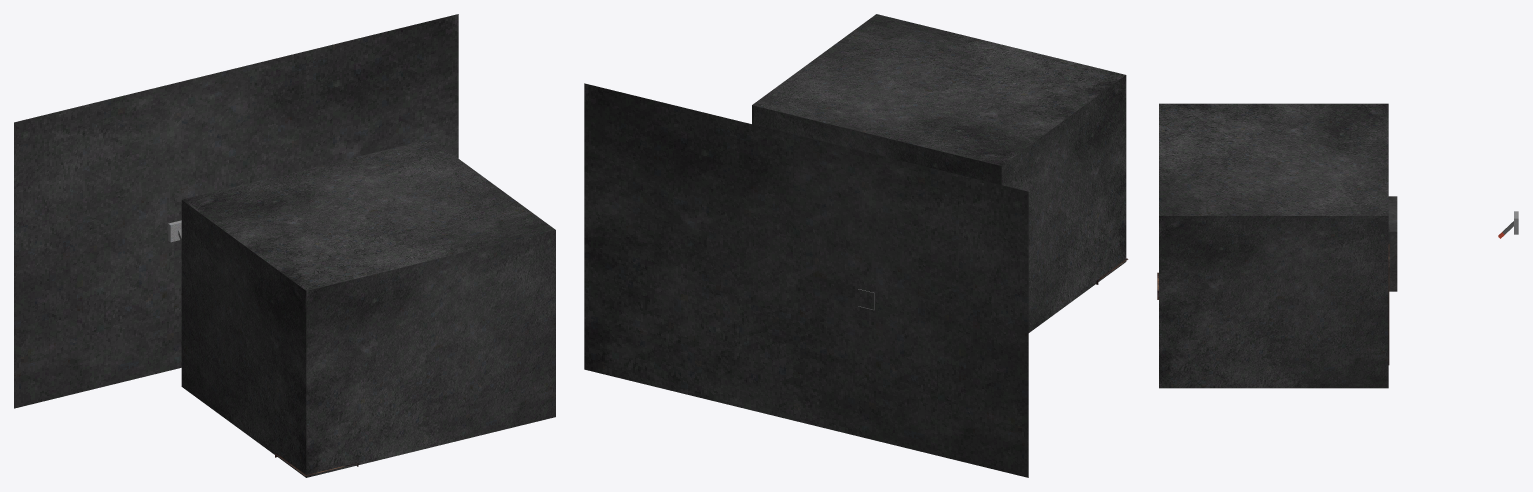
The model's file is EletstriskStolRomV2.glb.
The picture shows the model from 3 angles, left to right: view 1: azimuth 30°, elevation 25°; view 2: azimuth 150°, elevation 25°; view 3: azimuth 270°, elevation 25°; orthographic projection. The views are drawn at different scales.
Parts seen in each view (by area): view 1: ElStolRom, Extra Vegg; view 2: Extra Vegg, ElStolRom; view 3: ElStolRom.
Boxes of the visible parts, bbox=[...] form: ElStolRom: bbox=[181, 139, 555, 477]; Extra Vegg: bbox=[14, 14, 458, 408]; Extra Vegg: bbox=[584, 83, 1028, 477]; ElStolRom: bbox=[752, 14, 1126, 332]; ElStolRom: bbox=[1159, 103, 1397, 388].
Size of the model in its own units: 16.86 by 10.37 by 12.88.
Materials: 9 (5 with a texture image).
